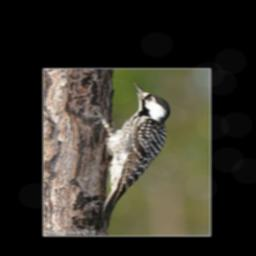Woodpecker: (84, 82, 171, 231)
